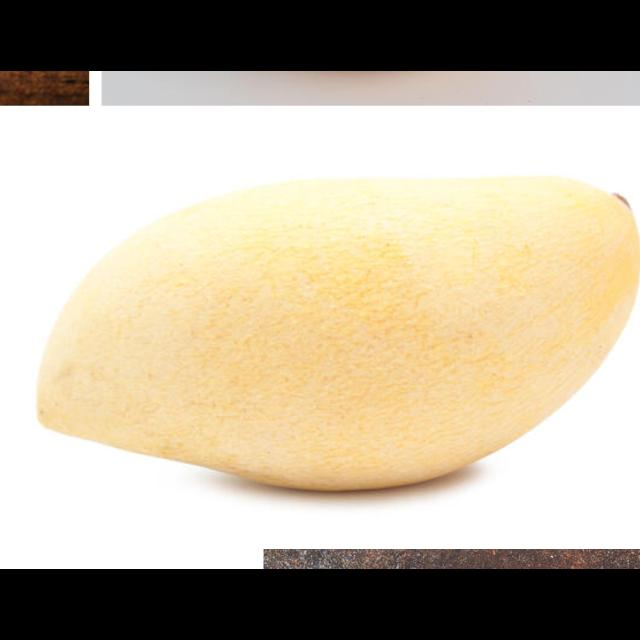mango: (30, 171, 640, 494)
